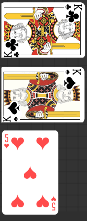5H: (4, 133, 11, 149), (50, 195, 57, 211)
